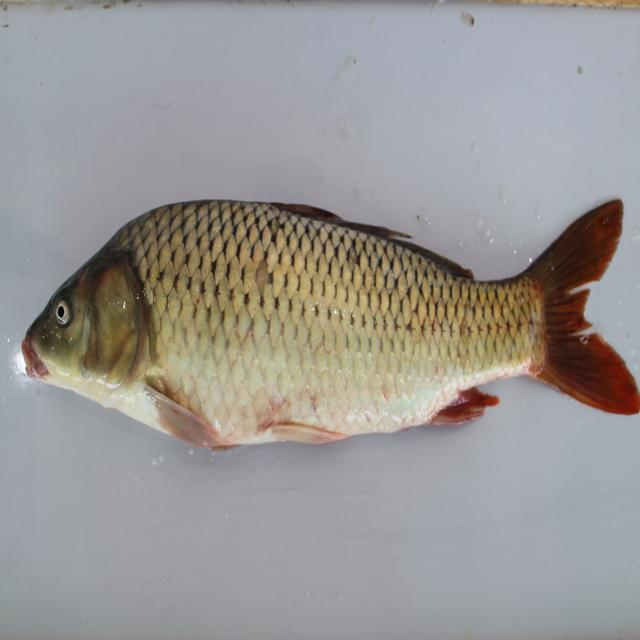CommonCarp: (19, 186, 640, 459)
